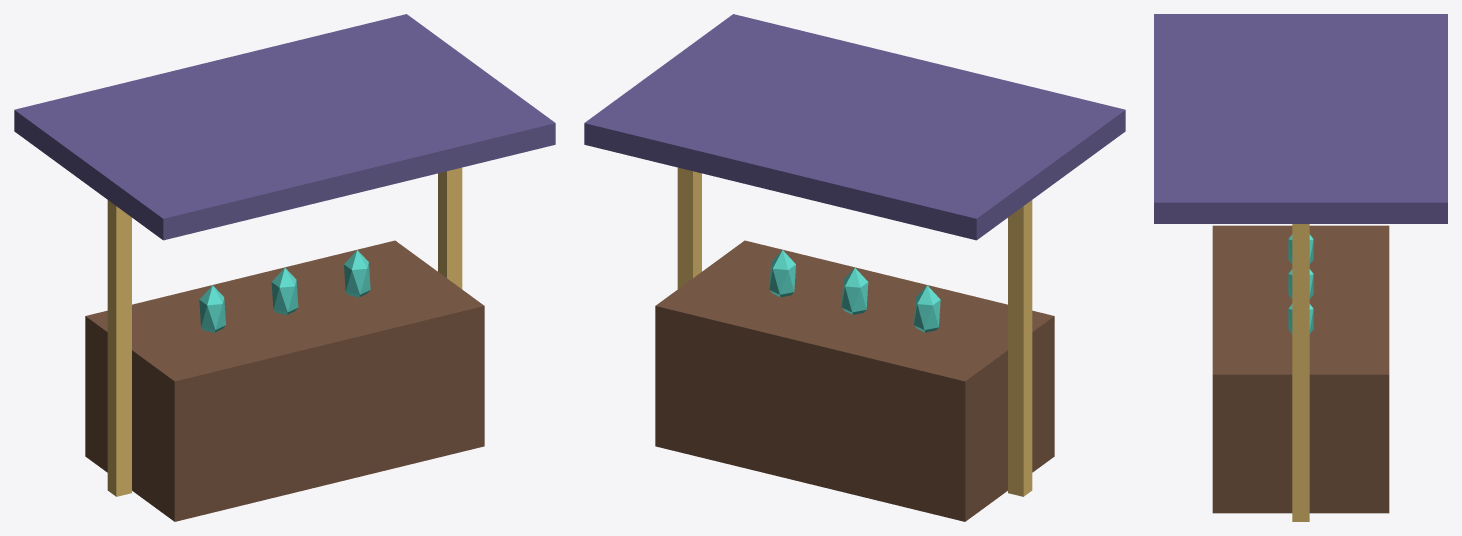
File: merchant.glb
3 renders of one model, left to right at view 1: azimuth 30°, elevation 25°; view 2: azimuth 150°, elevation 25°; view 3: azimuth 270°, elevation 25°, orthographic.
Parts seen in each view (by area): view 1: Exchange counter, Merchant canopy, Canopy post, Canopy post.001, Scales for exchange.002, Scales for exchange, Scales for exchange.001; view 2: Exchange counter, Merchant canopy, Canopy post, Canopy post.001, Scales for exchange.002, Scales for exchange, Scales for exchange.001; view 3: Merchant canopy, Exchange counter, Canopy post.001.
Part boxes in pixels (<box>): Exchange counter: <box>85,240,484,521</box>; Merchant canopy: <box>14,14,555,240</box>; Canopy post: <box>107,200,131,496</box>; Canopy post.001: <box>438,167,462,288</box>; Scales for exchange.002: <box>344,250,370,297</box>; Scales for exchange: <box>199,285,225,332</box>; Scales for exchange.001: <box>271,268,298,314</box>; Exchange counter: <box>655,240,1054,521</box>; Merchant canopy: <box>584,14,1125,240</box>; Canopy post: <box>1008,200,1032,496</box>; Canopy post.001: <box>677,167,701,288</box>; Scales for exchange.002: <box>769,250,795,297</box>; Scales for exchange: <box>914,285,940,332</box>; Scales for exchange.001: <box>841,268,868,314</box>; Merchant canopy: <box>1154,14,1447,223</box>; Exchange counter: <box>1212,225,1389,513</box>; Canopy post.001: <box>1292,224,1309,521</box>.
Size of the model in its own units: 3.8 by 3.1 by 2.5.
